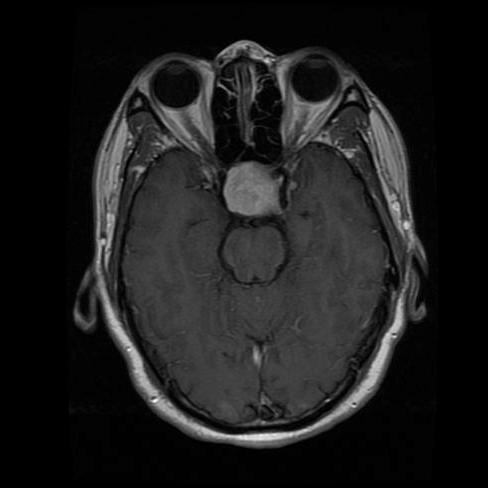Tumour-Pituitary: (218, 167, 288, 225)
